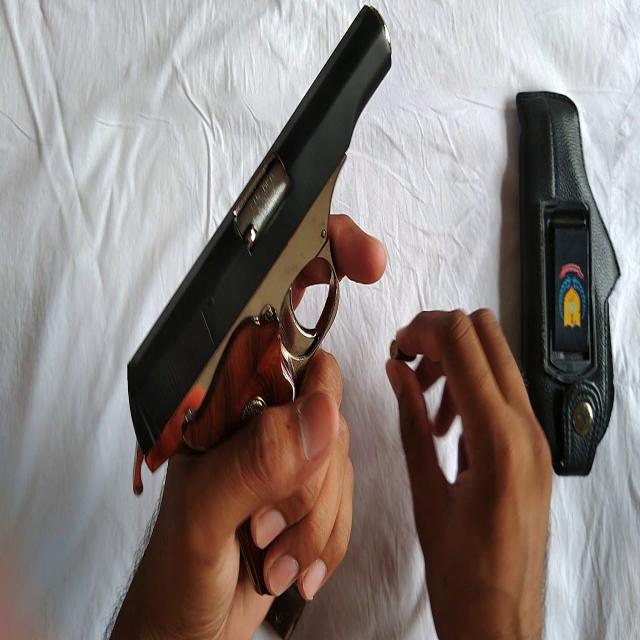handgun: (128, 4, 394, 640)
